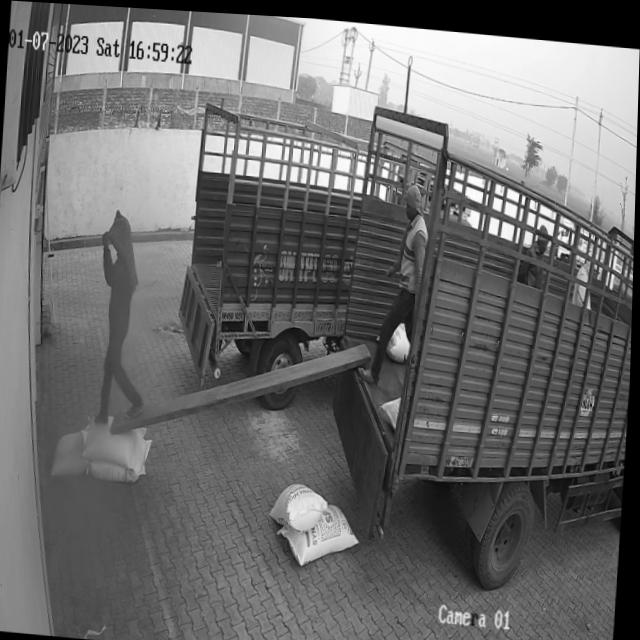sack: (278, 494, 363, 567), (83, 413, 148, 466), (88, 432, 154, 482), (272, 478, 330, 530), (53, 424, 93, 478)
